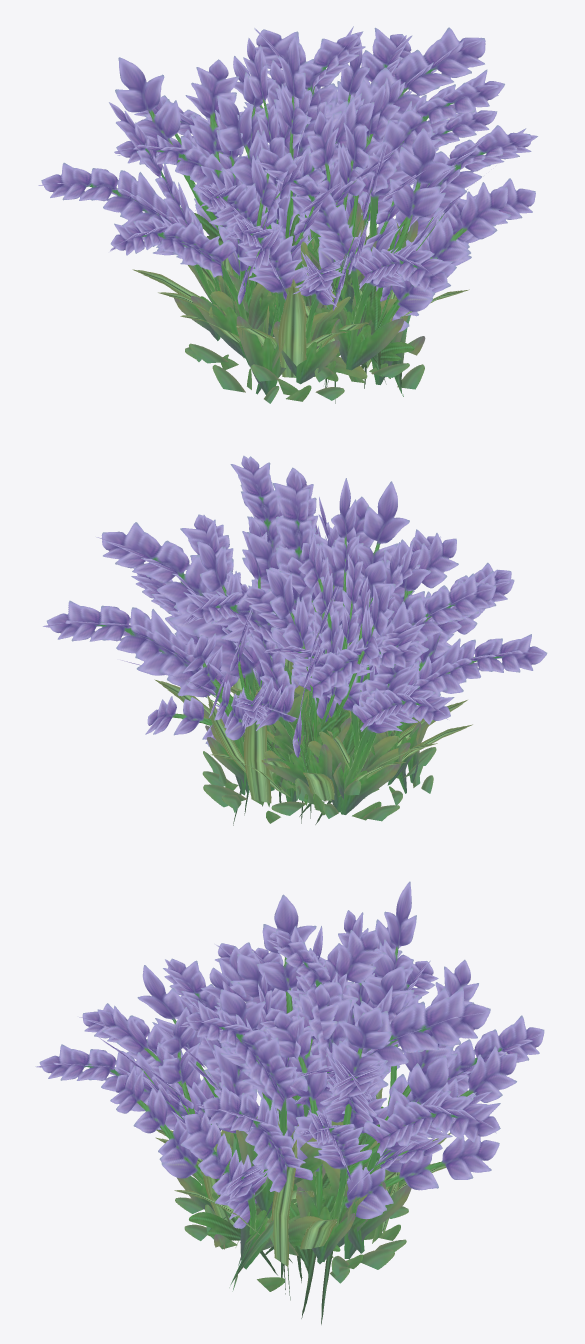
File: SM_Ground_Lavender.fbx
The picture shows the model from 3 angles, top to bottom: view 1: azimuth 30°, elevation 25°; view 2: azimuth 150°, elevation 25°; view 3: azimuth 270°, elevation 25°; orthographic projection. The views are drawn at different scales.
Parts seen in each view (by area): view 1: SM_Ground_Lavender_LOD0; view 2: SM_Ground_Lavender_LOD0; view 3: SM_Ground_Lavender_LOD0.
Part boxes in pixels (<box>): SM_Ground_Lavender_LOD0: <box>38,26,537,403</box>; SM_Ground_Lavender_LOD0: <box>43,455,547,825</box>; SM_Ground_Lavender_LOD0: <box>35,881,544,1324</box>.
Bounding box in the file's own units: 119 × 121 × 96.68.
Materials: 1 (1 with a texture image).
